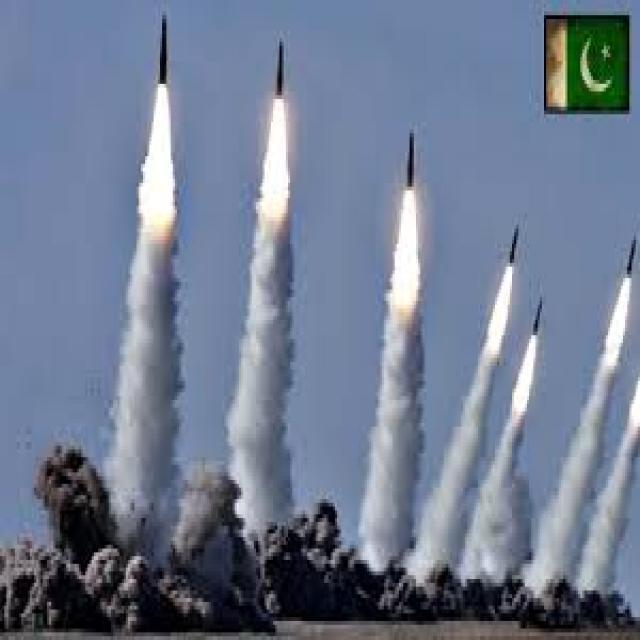Missile: (157, 5, 170, 89), (404, 122, 418, 194), (530, 289, 545, 345), (509, 214, 523, 272), (275, 33, 286, 105), (626, 229, 638, 281)
